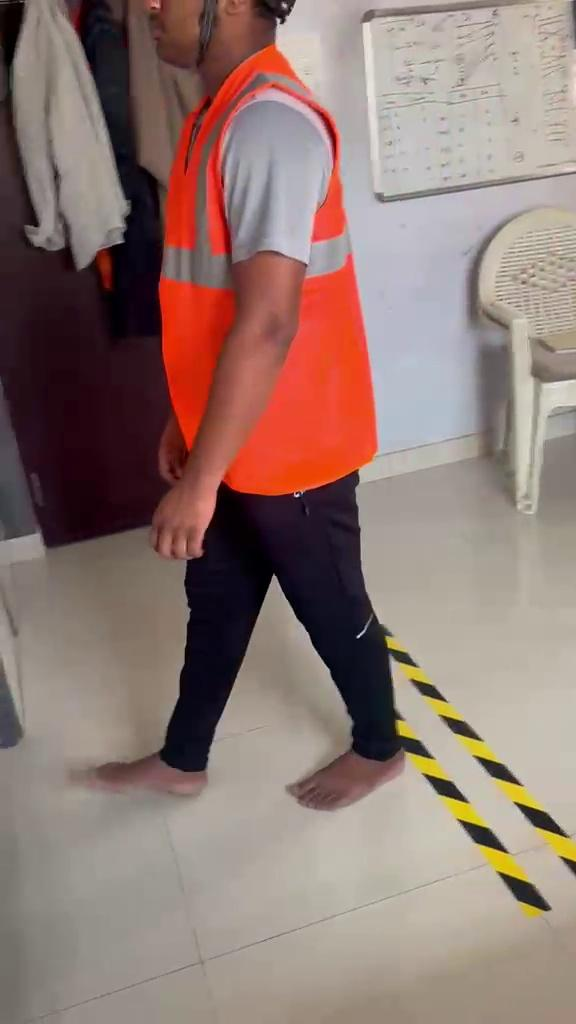BorderLine: (387, 632, 576, 918)
Person: (86, 0, 403, 808)
Vest: (158, 47, 376, 492)
